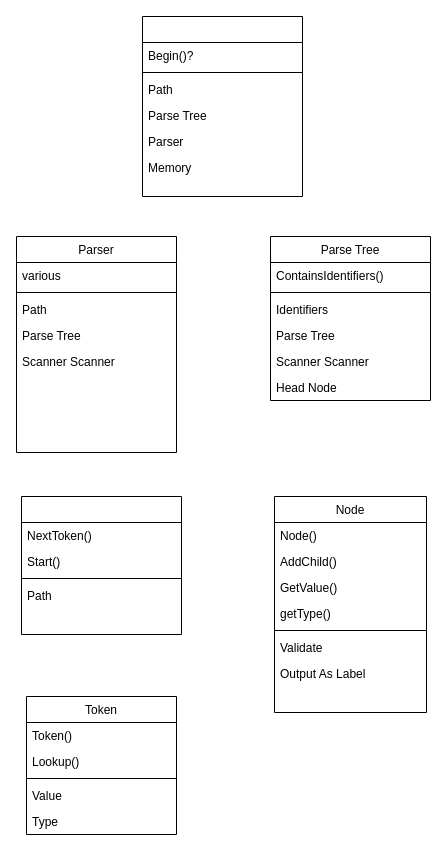
This 447x851 diagram has some shape labels left out. The shapes that lost their labels are listed below. From the top down, each one's box as (x1, y1, x2, y2) in pixels, then its label:
(142, 16, 302, 196): Executor
(20, 496, 182, 634): Scanner
